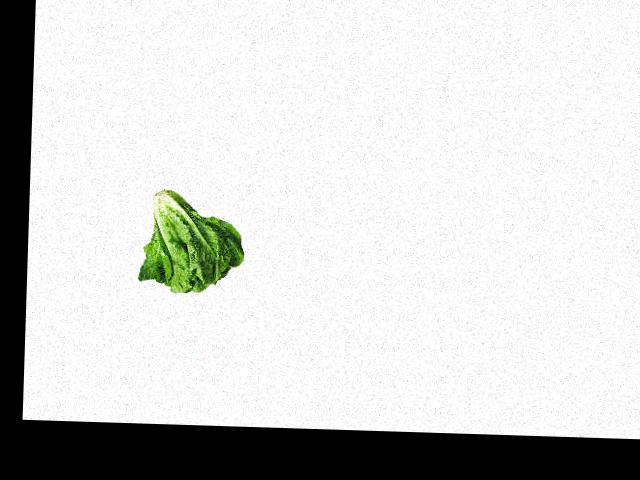lettuce: (139, 183, 247, 295)
